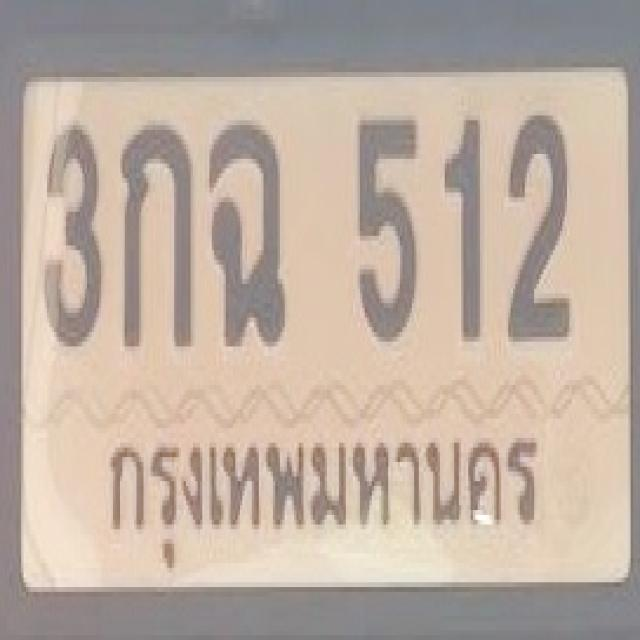license_plate: (3, 27, 640, 640)
